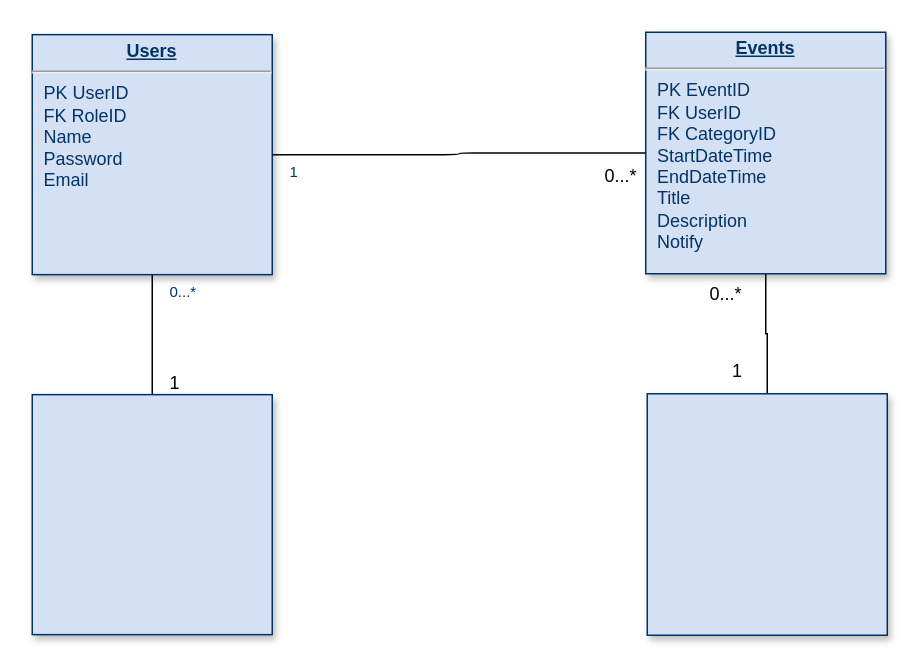
Image size: 923x672. Some labels were removed from this diagram. The shapes that lost their labels are listed below. From the top down, each one's centre as x and y in pixels, then its label:
(153,516): Roles PK RoleID Type
(768,516): Categories PK CategoryID Type
